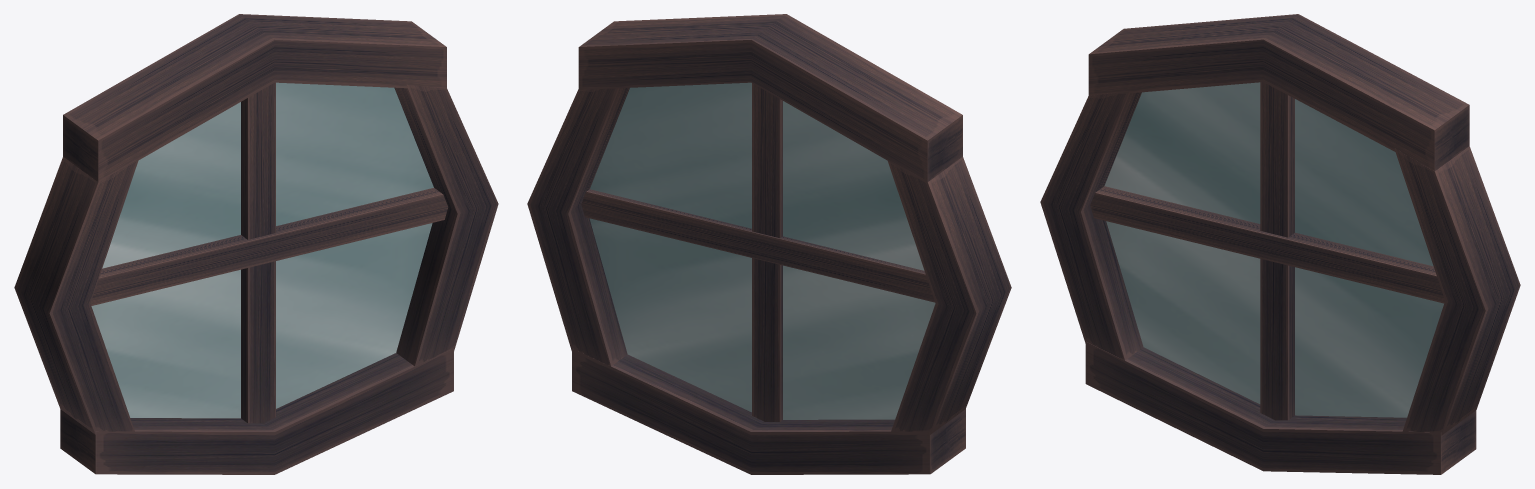
Rendered from Window_A.fbx.
3 renders of one model, left to right at view 1: azimuth 30°, elevation 25°; view 2: azimuth 150°, elevation 25°; view 3: azimuth 330°, elevation 25°, orthographic.
Parts seen in each view (by area): view 1: Window_A; view 2: Window_A; view 3: Window_A.
Part boxes in pixels (x1=…): Window_A: x1=14, y1=14, x2=498, y2=474; Window_A: x1=527, y1=14, x2=1011, y2=474; Window_A: x1=1040, y1=14, x2=1520, y2=474.
Bounding box in the file's own units: 0.1382 × 0.128 × 0.0189.
